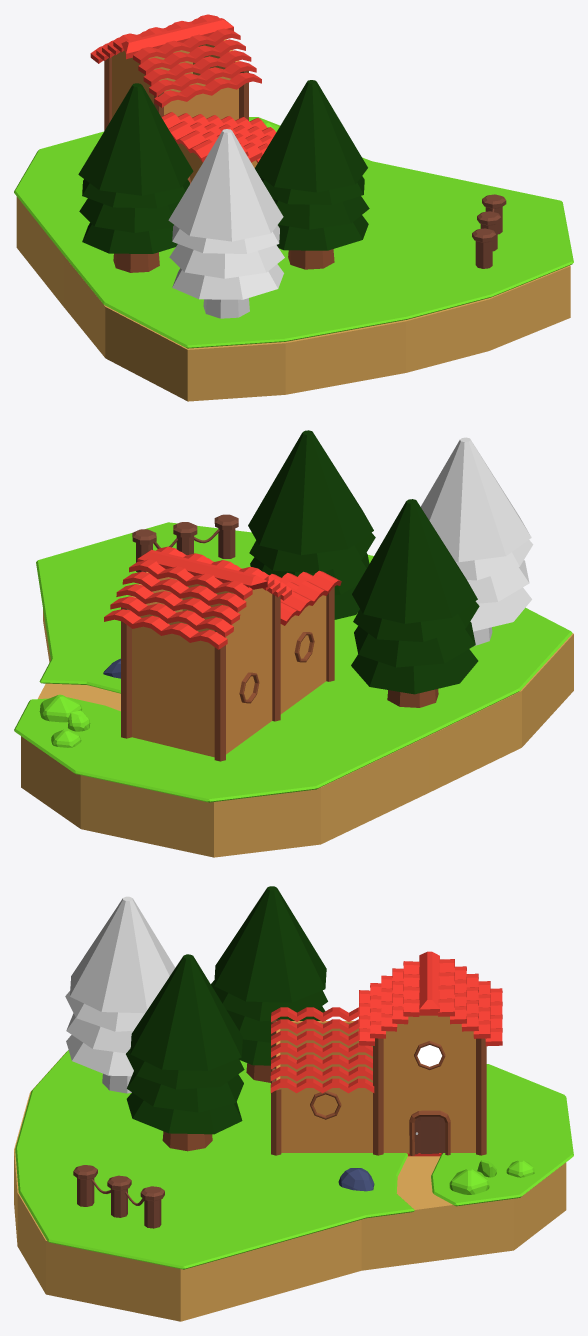
Rendered from testground1.fbx.
3 views of the same model, one above another, from view 1: azimuth 30°, elevation 25°; view 2: azimuth 150°, elevation 25°; view 3: azimuth 270°, elevation 25° (orthographic). The views are drawn at different scales.
Parts seen in each view (by area): view 1: BezierCurve.002, BezierCurve.001, Cylinder.004, Cylinder.003, Cylinder.002, Cube.001, Plane, Cube.003, Plane.002, Cube.002, Plane.004, Cylinder.005; view 2: BezierCurve.002, BezierCurve.001, Plane, Cylinder.003, Cylinder.002, Cylinder.004, Cube.002, Plane.004, Cube.003, Plane.002, Cube.001, Cylinder.005 (+2 smaller); view 3: BezierCurve.002, BezierCurve.001, Plane, Cylinder.002, Cylinder.004, Cylinder.003, Cube.003, Cube.002, Cube.001, Plane.004, Plane.002, Plane.001 (+5 smaller).
Part boxes in pixels (box(x1,y1,x2,y2)): BezierCurve.002: box(14, 117, 573, 348); BezierCurve.001: box(16, 196, 570, 401); Cylinder.004: box(168, 129, 284, 318); Cylinder.003: box(78, 83, 193, 272); Cylinder.002: box(255, 80, 369, 269); Cube.001: box(133, 28, 261, 107); Plane: box(112, 39, 257, 182); Cube.003: box(161, 112, 276, 162); Plane.002: box(121, 18, 233, 59); Cube.002: box(90, 14, 219, 63); Plane.004: box(104, 57, 248, 130); Cylinder.005: box(472, 228, 496, 268); BezierCurve.002: box(14, 522, 572, 802); BezierCurve.001: box(21, 609, 573, 857); Plane: box(132, 572, 326, 757); Cylinder.003: box(351, 499, 479, 707); Cylinder.002: box(248, 430, 375, 619); Cylinder.004: box(421, 437, 533, 645); Cube.002: box(104, 559, 252, 649); Plane.004: box(121, 587, 334, 761); Cube.003: box(270, 570, 341, 625); Plane.002: box(137, 549, 267, 589); Cube.001: box(156, 546, 291, 600); Cylinder.005: box(214, 514, 238, 558); BezierCurve.002: box(15, 1050, 573, 1269); BezierCurve.001: box(14, 1054, 566, 1321); Plane: box(276, 1015, 475, 1153); Cylinder.002: box(126, 954, 244, 1151); Cylinder.004: box(65, 896, 175, 1093); Cylinder.003: box(211, 886, 327, 1082); Cube.003: box(270, 1007, 374, 1093); Cube.002: box(438, 959, 502, 1046); Cube.001: box(359, 961, 419, 1045); Plane.004: box(271, 1018, 486, 1155); Plane.002: box(407, 951, 441, 1156); Plane.001: box(414, 1116, 445, 1154).
Size of the model in its own units: 1055 by 1097 by 522.
